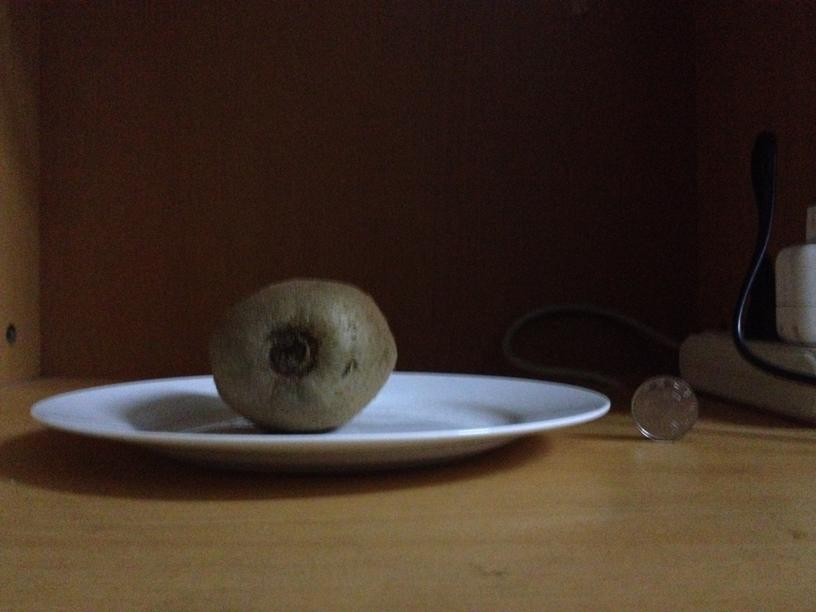coin: (631, 375, 700, 442)
qiwi: (211, 278, 395, 429)
